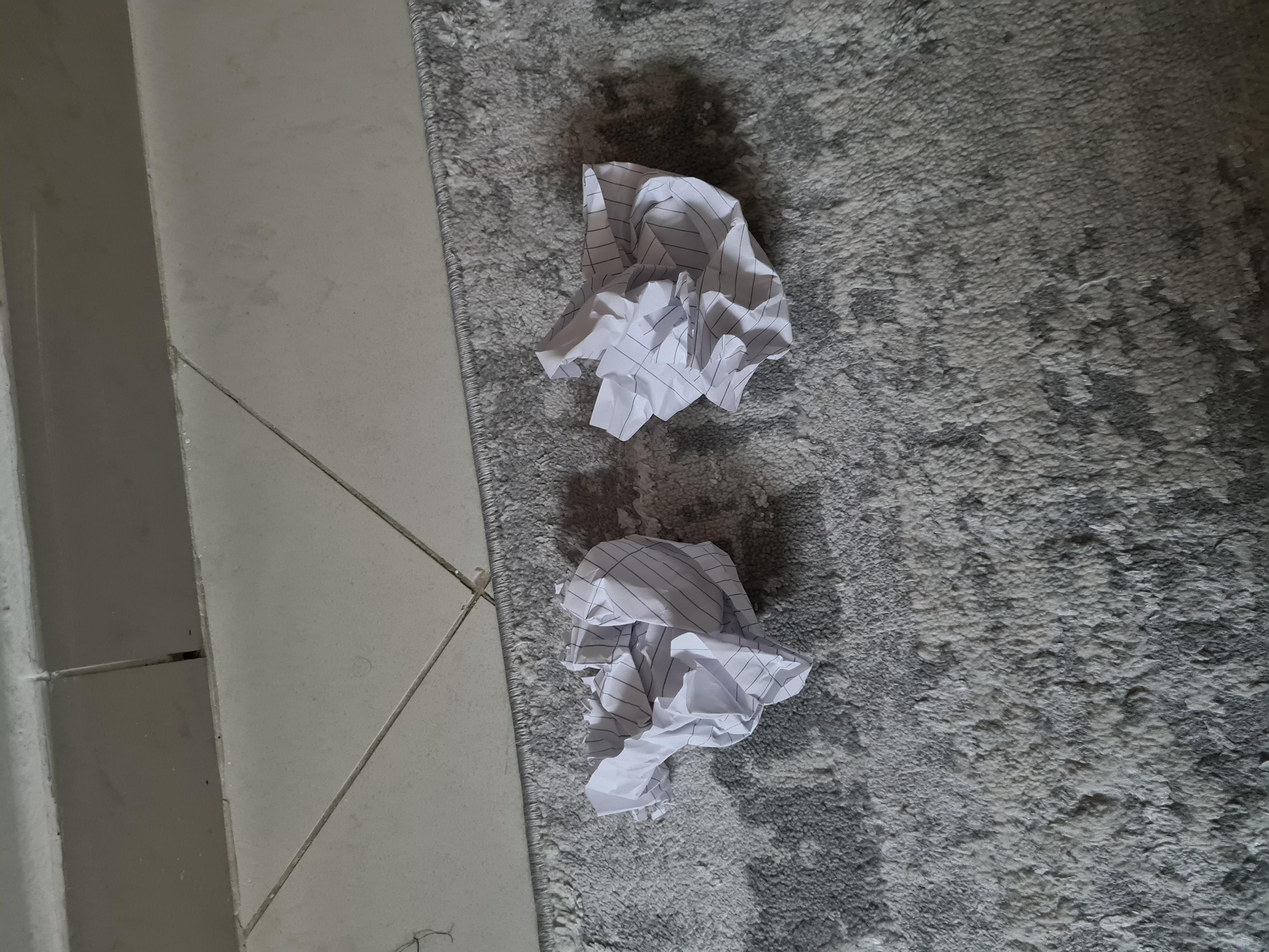paper: (185, 411, 564, 615), (686, 402, 1054, 596)
